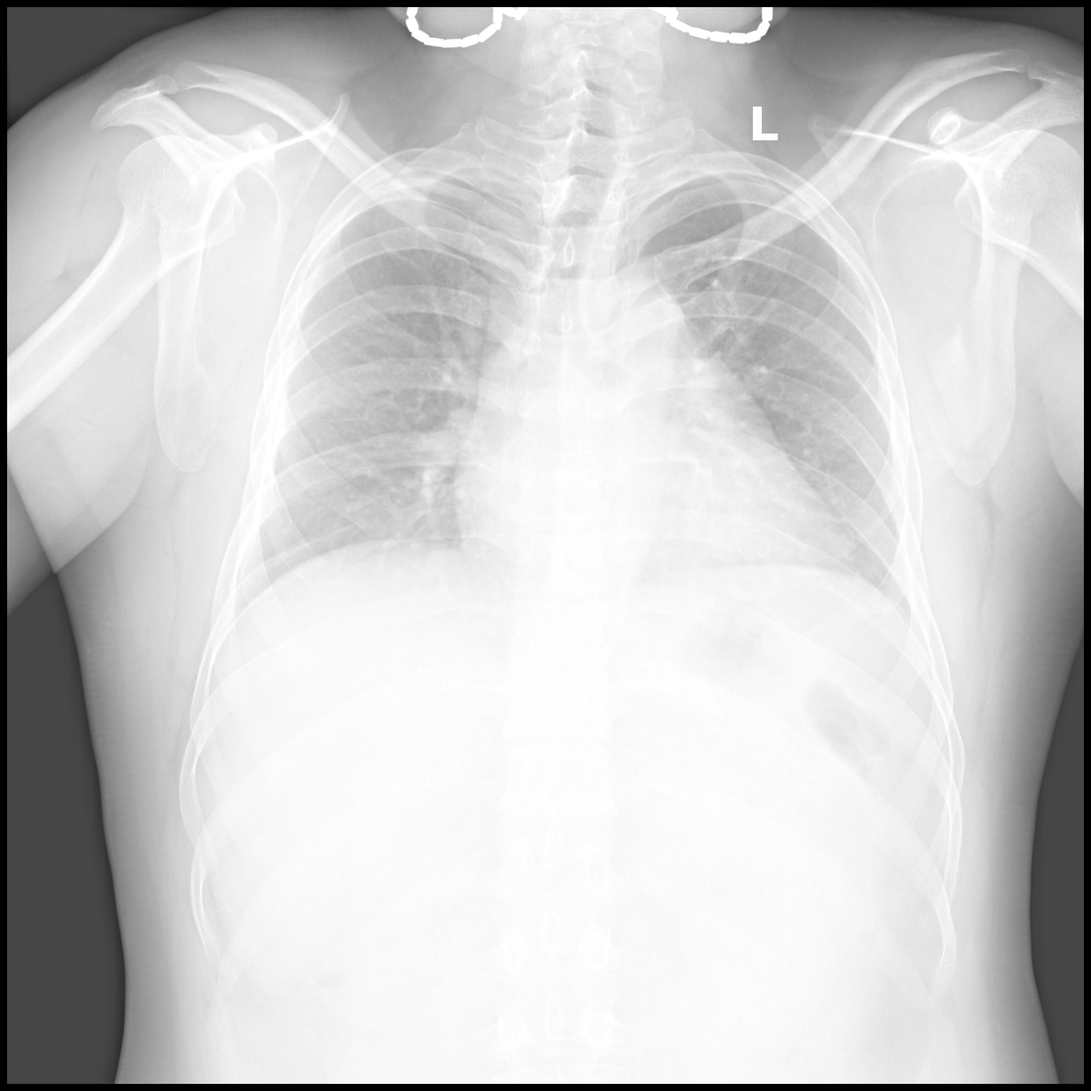Cardiomegaly: (449, 455, 861, 567)
